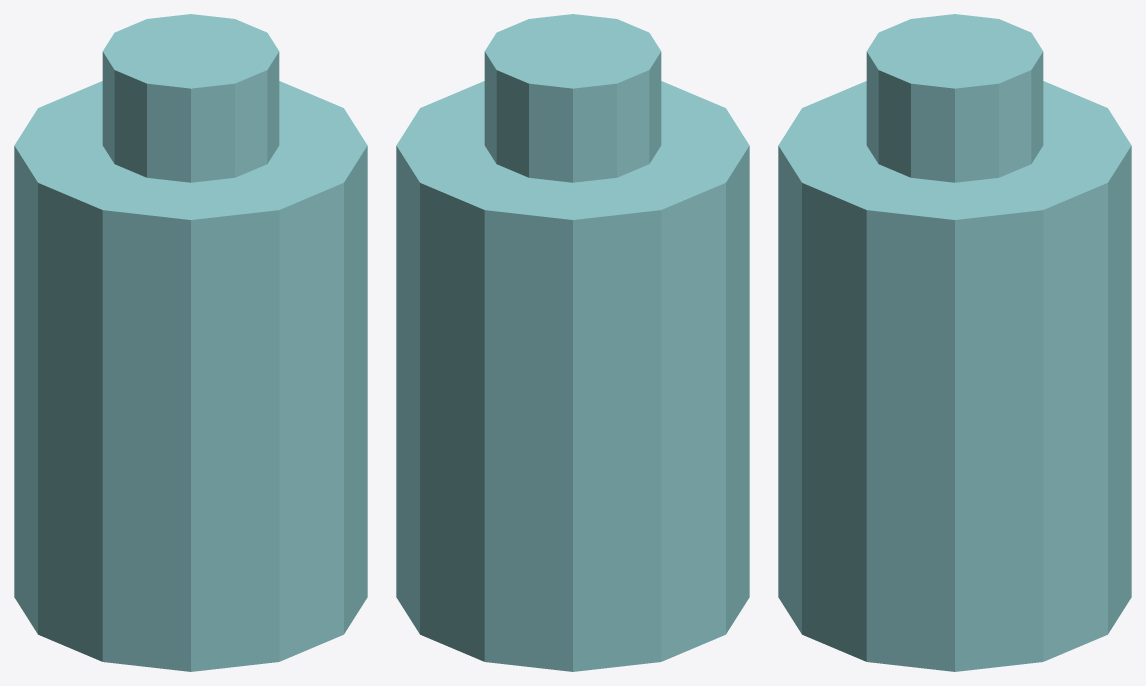
File: bottle-open.glb
3 renders of one model, left to right at view 1: azimuth 30°, elevation 25°; view 2: azimuth 150°, elevation 25°; view 3: azimuth 270°, elevation 25°, orthographic.
Parts seen in each view (by area): view 1: Container; view 2: Container; view 3: Container.
Boxes of the visible parts, x1,y1,x2,y2 form: Container: (14,14,367,671); Container: (396,14,749,671); Container: (778,14,1131,671).
Size of the model in its own units: 0.34 by 0.58 by 0.34.
